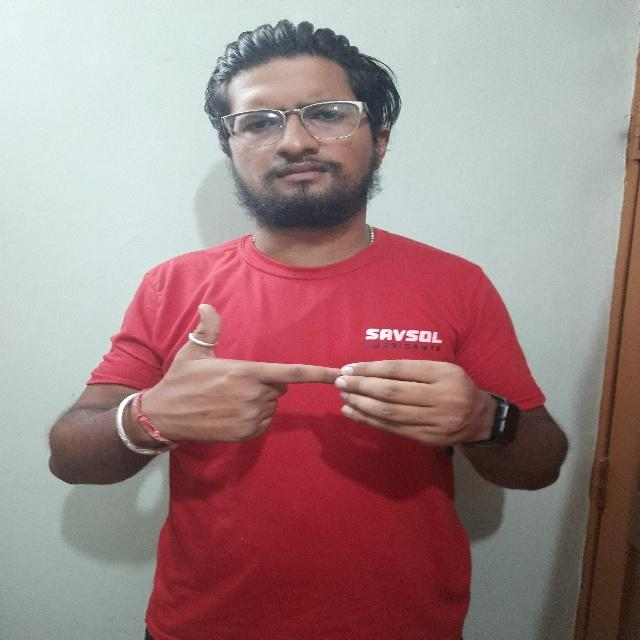Five Fathers: (129, 295, 491, 463)
